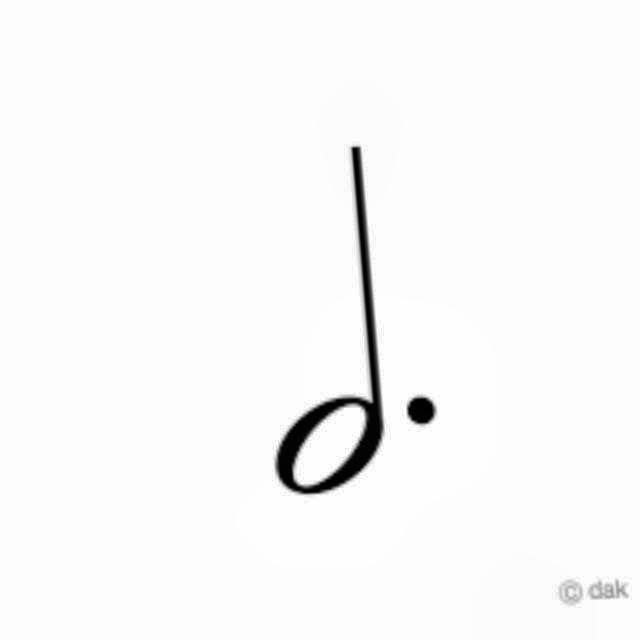Half-dot: (246, 137, 466, 511)
